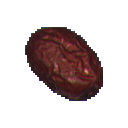gd: (16, 16, 111, 110)
